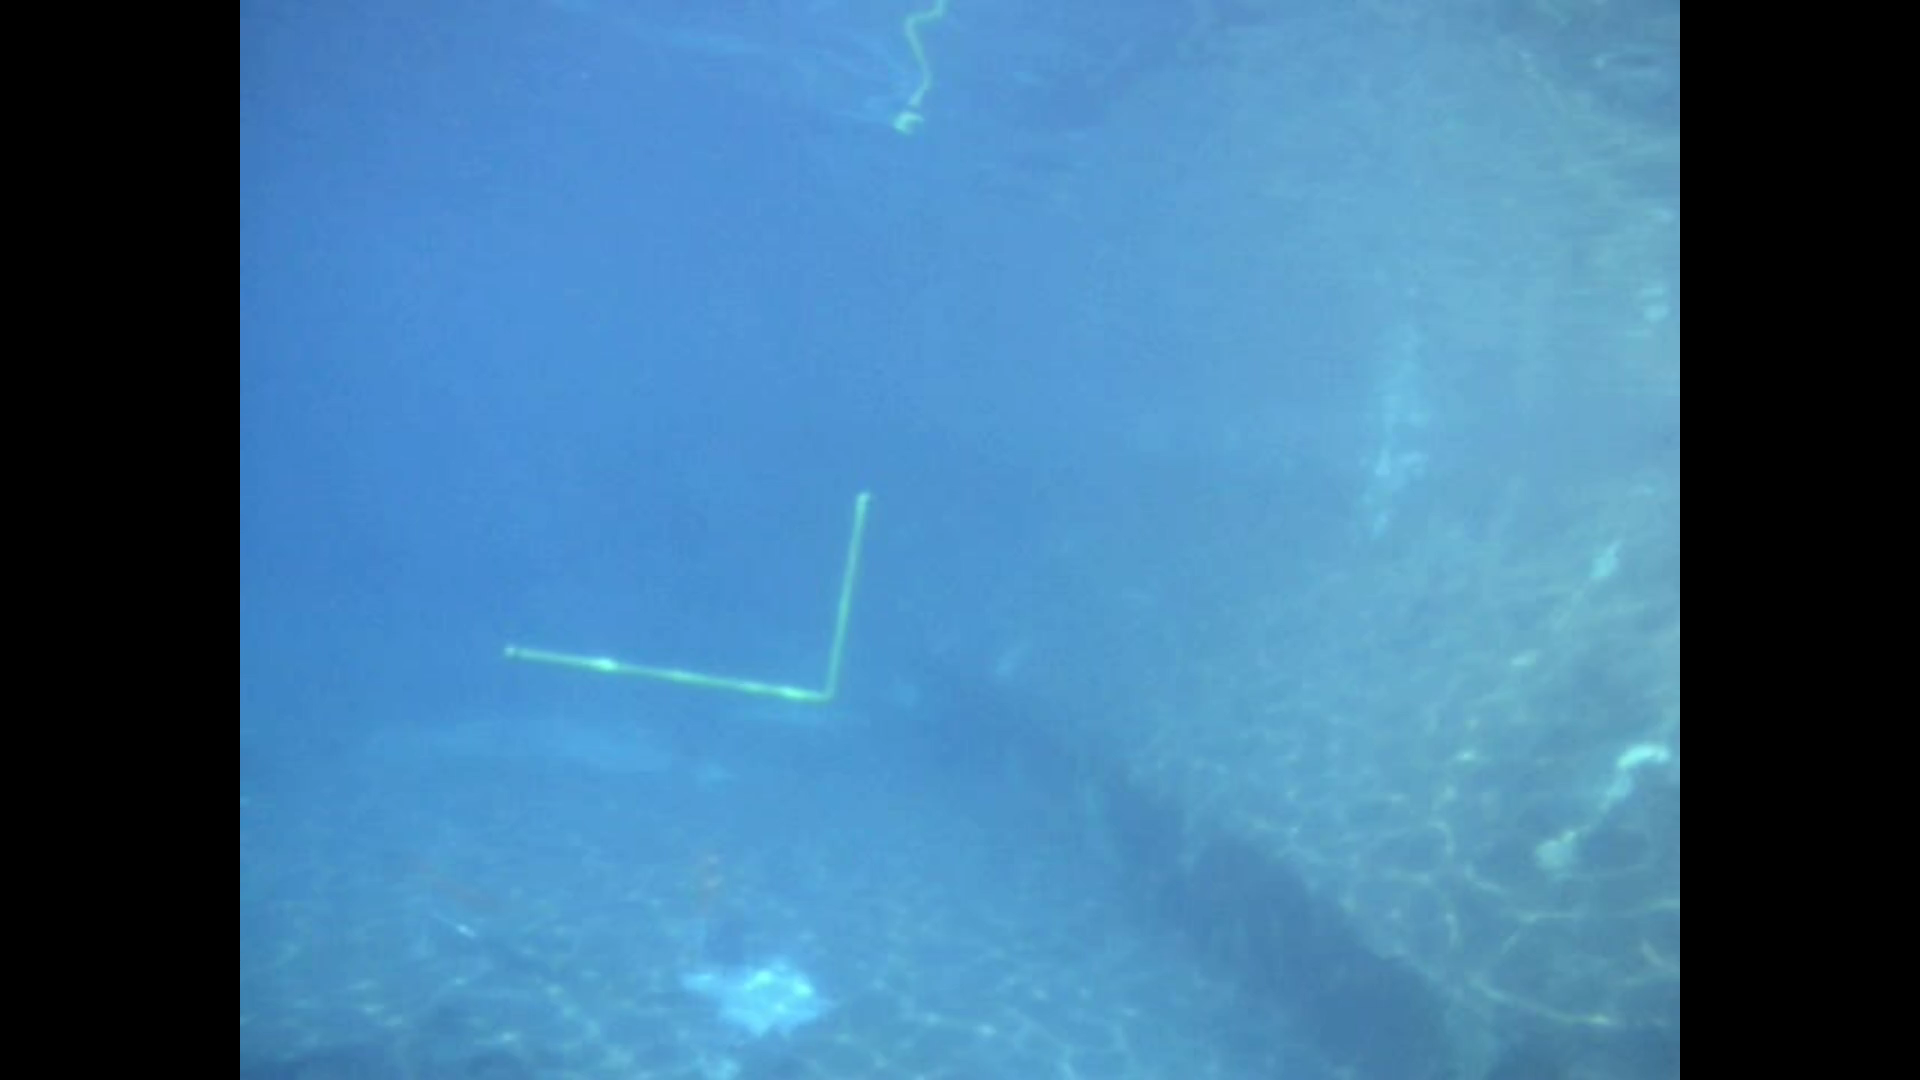gate: (498, 483, 874, 709)
